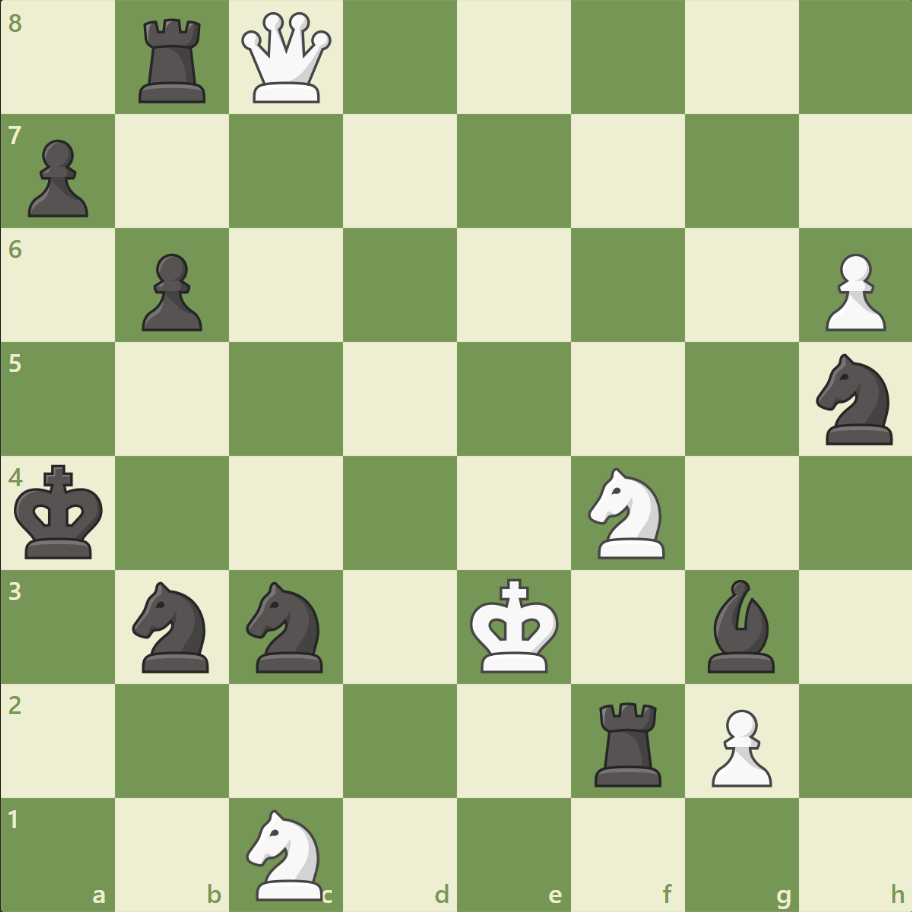K: (465, 571, 565, 679)
N: (579, 461, 676, 564), (238, 802, 335, 904)
P: (701, 700, 776, 791), (815, 246, 889, 337)
Q: (237, 9, 336, 108)
b: (698, 574, 782, 676)
k: (11, 458, 111, 566)
n: (124, 575, 222, 677), (806, 348, 903, 450), (238, 575, 335, 677)
p: (20, 132, 95, 223), (133, 246, 208, 337)
r: (587, 693, 670, 790), (133, 12, 215, 109)
